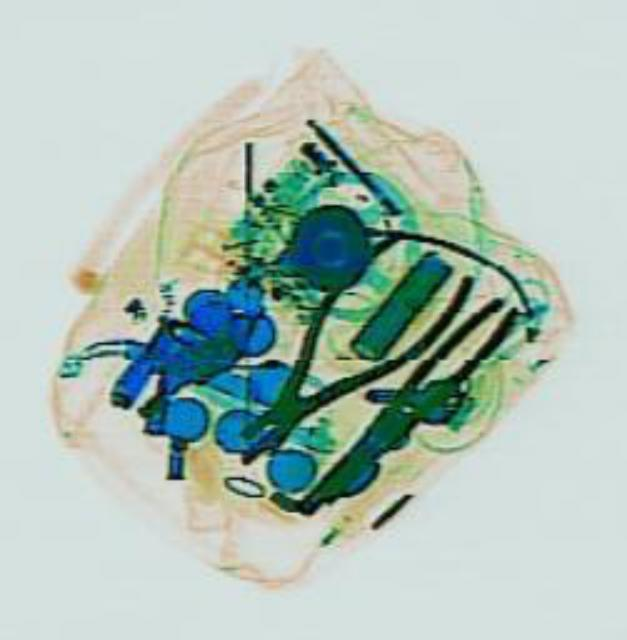Pliers: (200, 212, 479, 480), (297, 286, 522, 512)
